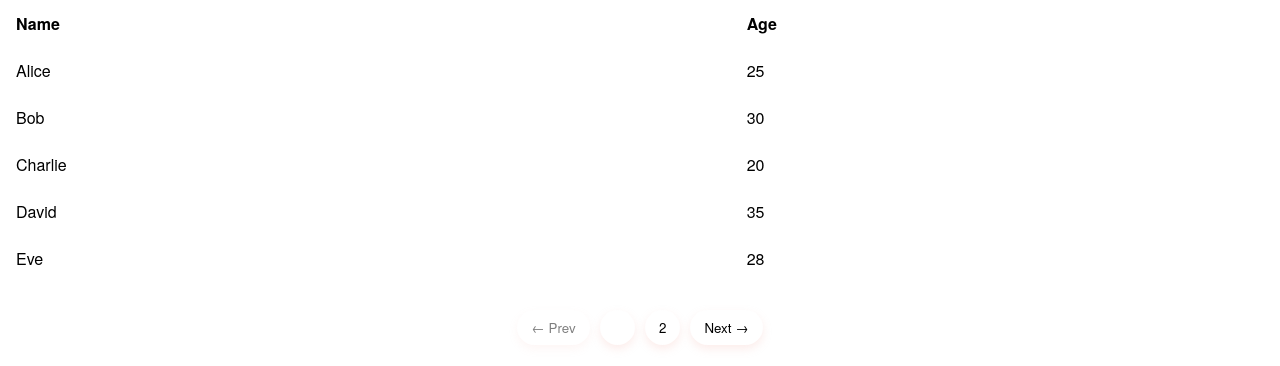
Test: JazzieTable Component › displays sort arrow on active sorted column
Click the column heading "Age": coordinates (762, 24) [731, 0, 1279, 47]
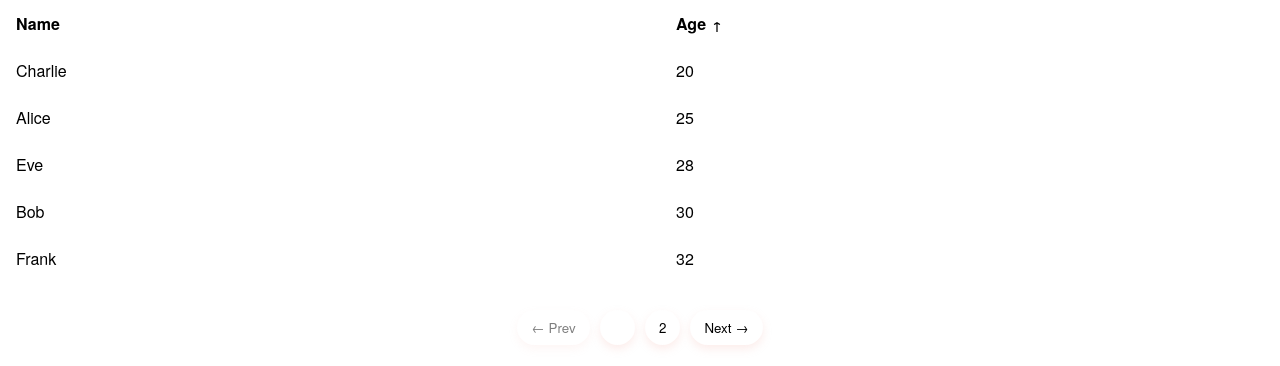
Expected: the text "↑" is shown, [712, 16, 722, 34]
Click the column heading "Age": coordinates (691, 24) [660, 0, 1279, 47]
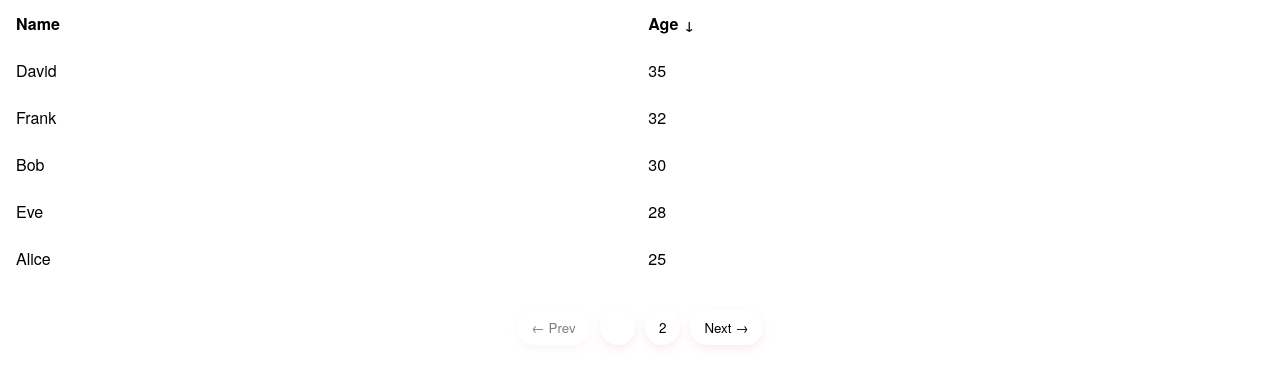
Expected: the text "↓" is shown, [684, 16, 694, 34]
